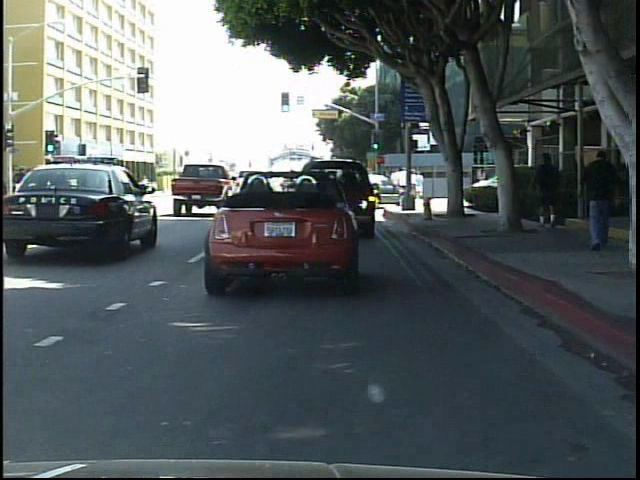person: (579, 141, 629, 260), (528, 146, 570, 236), (146, 174, 147, 199)
